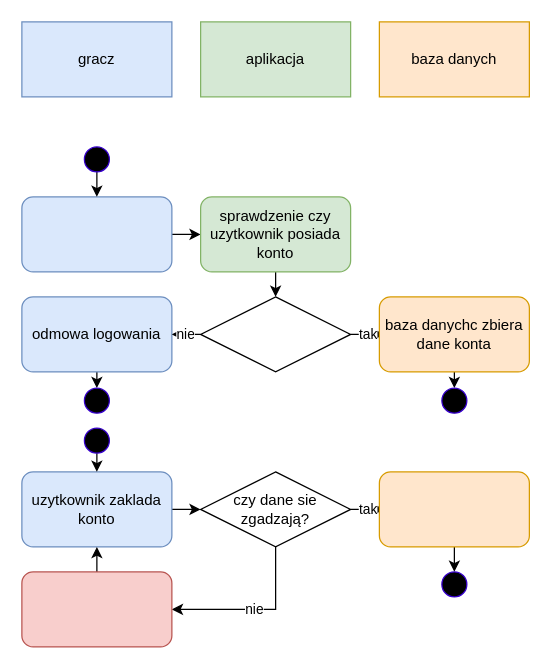
Image size: 551x669. Some labels were removed from this diagram. Each missing label, with the centre of its shape:
"błąd spróbuj ponownie" belongs at [96,609].
"posiada?" belongs at [275,334].
"Uzytkownik chce sie zalogowac" belongs at [96,234].
"zapisanie danych uzytkownika w bazie danych" belongs at [453,509].
